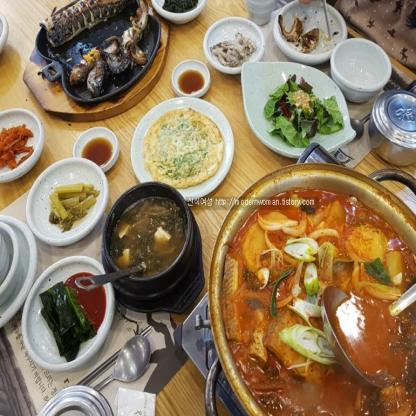Peixe: (42, 0, 128, 47)
